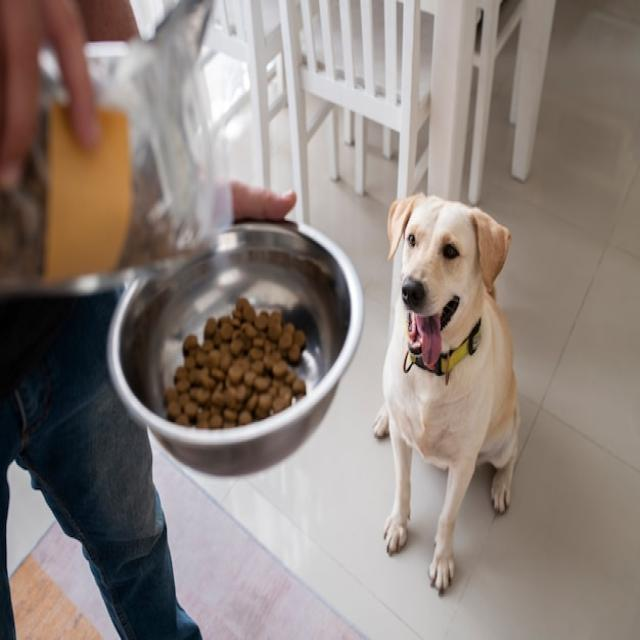Dog: (373, 190, 519, 595)
